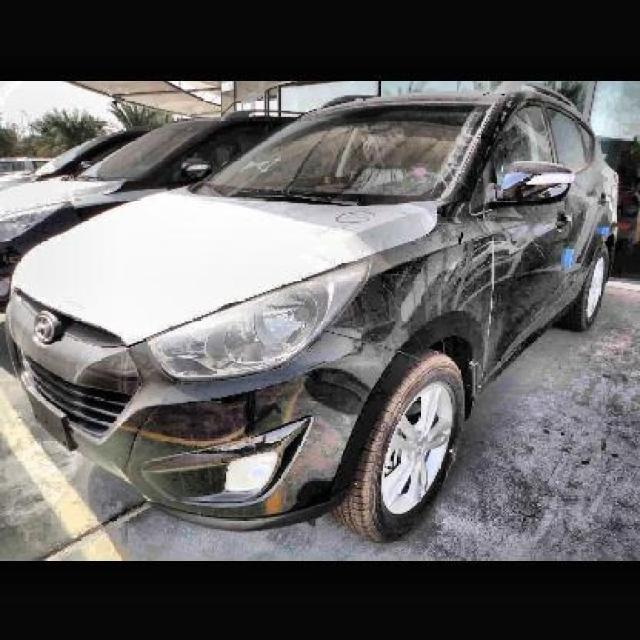black: (22, 77, 624, 536)
